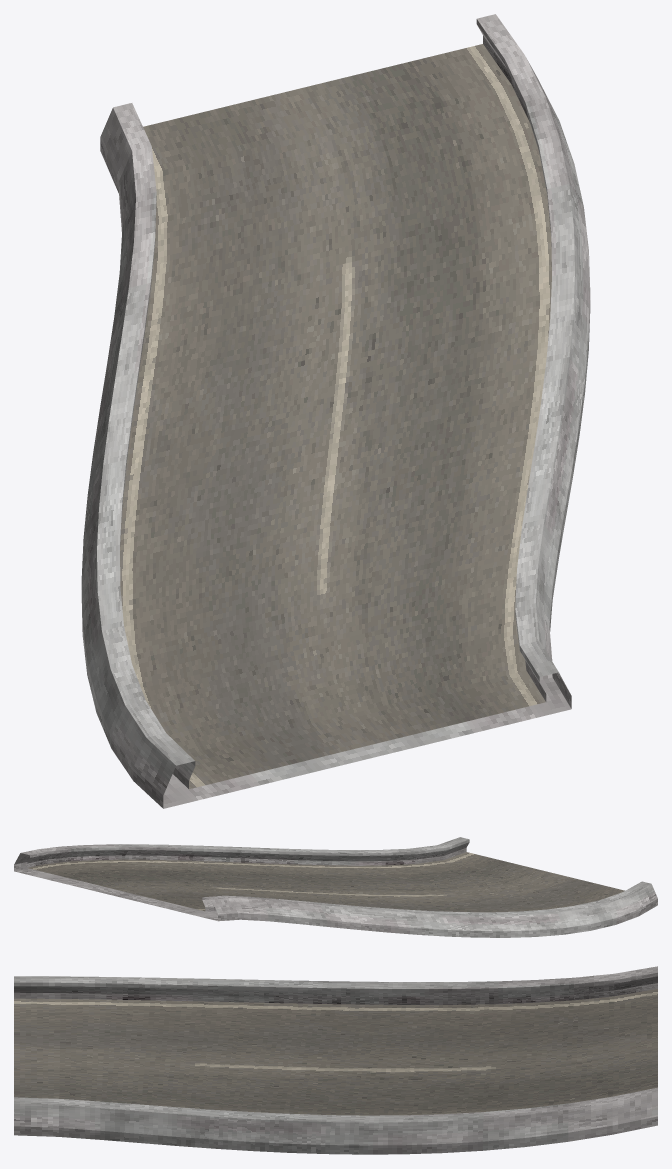
File: road-Chicane-Flat-BiSlopeUp-Up2-Right1-Size2.glb
3 views of the same model, one above another, from view 1: azimuth 30°, elevation 25°; view 2: azimuth 150°, elevation 25°; view 3: azimuth 270°, elevation 25° (orthographic). The views are drawn at different scales.
Visible parts, largest first — view 1: road-Chicane-Flat-BiSlopeUp-Up2-Right1-Size2; view 2: road-Chicane-Flat-BiSlopeUp-Up2-Right1-Size2; view 3: road-Chicane-Flat-BiSlopeUp-Up2-Right1-Size2.
Boxes of the visible parts, bbox=[...] form: road-Chicane-Flat-BiSlopeUp-Up2-Right1-Size2: bbox=[81, 14, 590, 808]; road-Chicane-Flat-BiSlopeUp-Up2-Right1-Size2: bbox=[14, 837, 657, 937]; road-Chicane-Flat-BiSlopeUp-Up2-Right1-Size2: bbox=[14, 966, 657, 1154].
Size of the model in its own units: 2 by 0.5938 by 2.
Materials: 2 (2 with a texture image).
